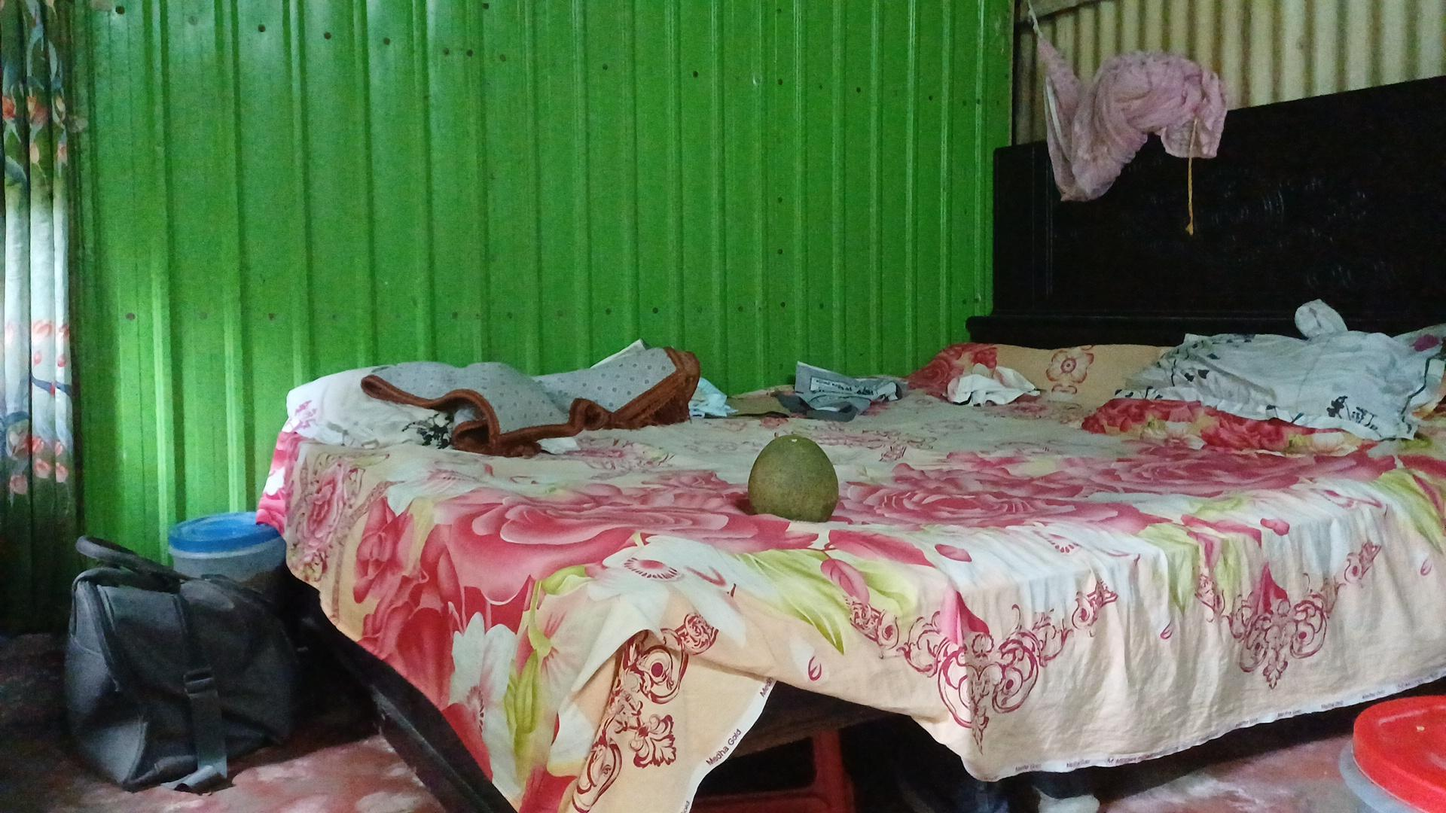Bag: (18, 509, 353, 792)
Food: (729, 428, 852, 530)
Pillow: (1129, 317, 1425, 498)
